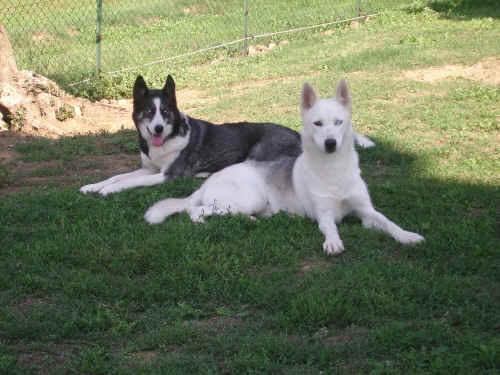dog: (148, 80, 427, 256), (80, 60, 302, 203)
